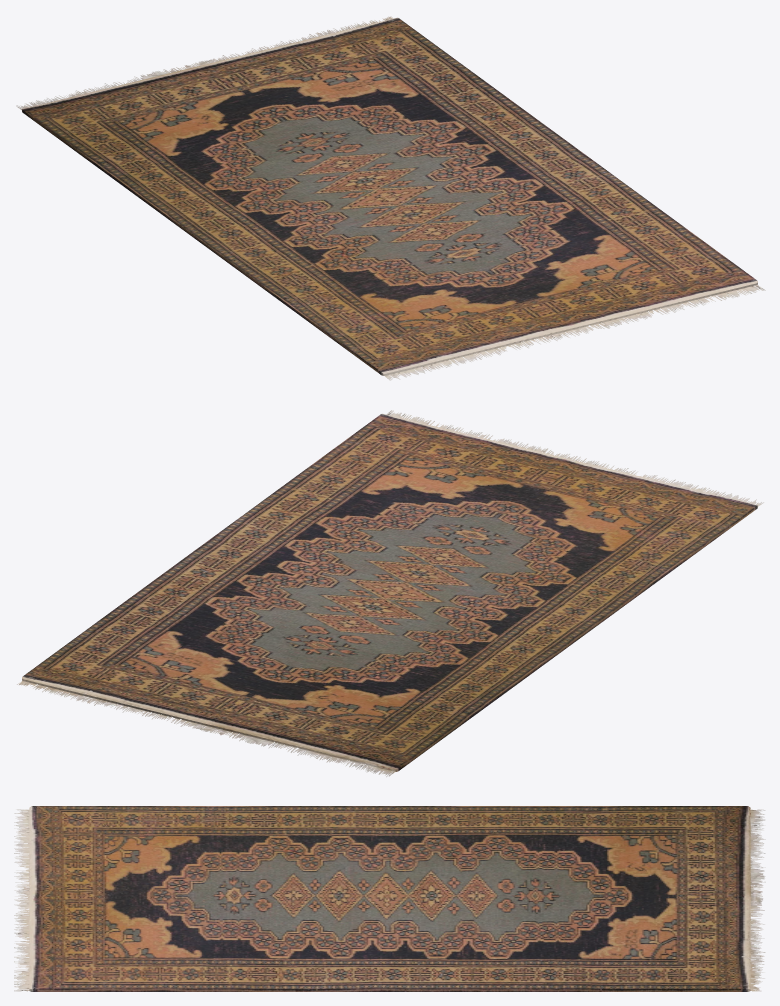
File: tappeto.glb
3 views of the same model, one above another, from view 1: azimuth 30°, elevation 25°; view 2: azimuth 150°, elevation 25°; view 3: azimuth 270°, elevation 25° (orthographic).
Visible parts, largest first — view 1: rug01_MDL_nar; view 2: rug01_MDL_nar; view 3: rug01_MDL_nar.
Part boxes in pixels (<box>): rug01_MDL_nar: <box>16,16,765,380</box>; rug01_MDL_nar: <box>17,410,764,777</box>; rug01_MDL_nar: <box>14,806,765,991</box>.
Size of the model in its own units: 300 by 2.15 by 521.
1 material, 1 textured.
